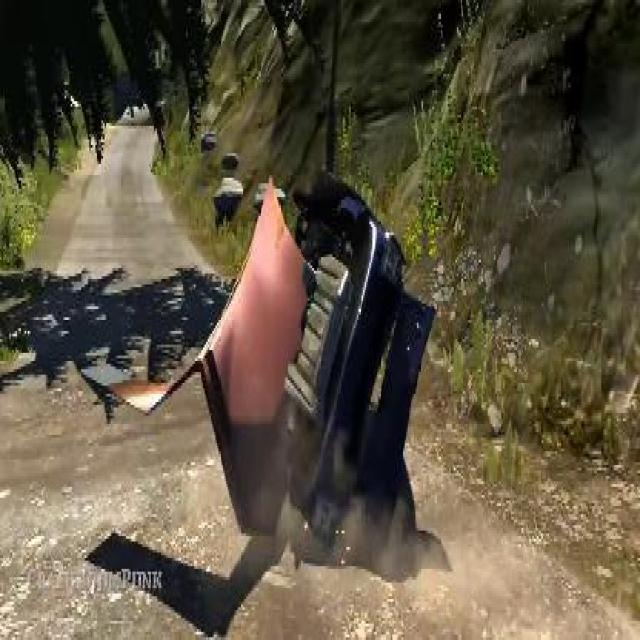accident: (191, 150, 417, 536)
